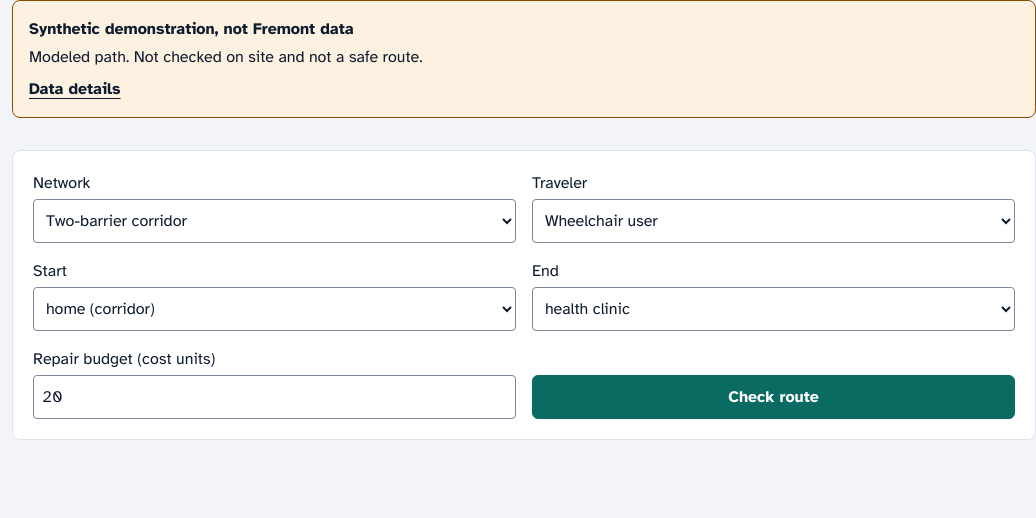
it: announces a request error assertively and moves focus to it
The width and height of the screenshot is (1036, 518).
Check: the dropdown labelled "Start" is shown, box 33,287 -> 516,331
Click the button "Check route" at x=774, y=397, box 532,375 -> 1015,419
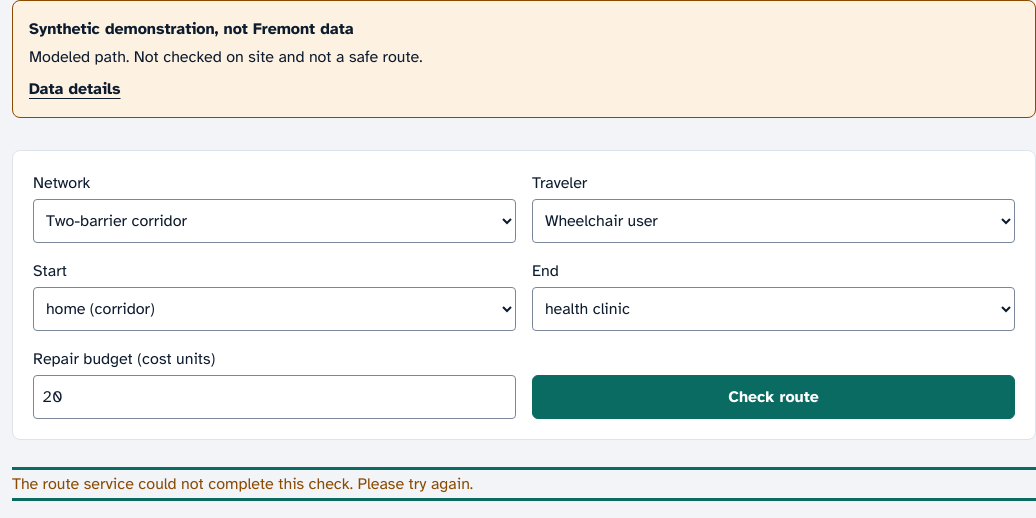
Check: the message shows "could not complete this check", box 12,474 -> 473,494
